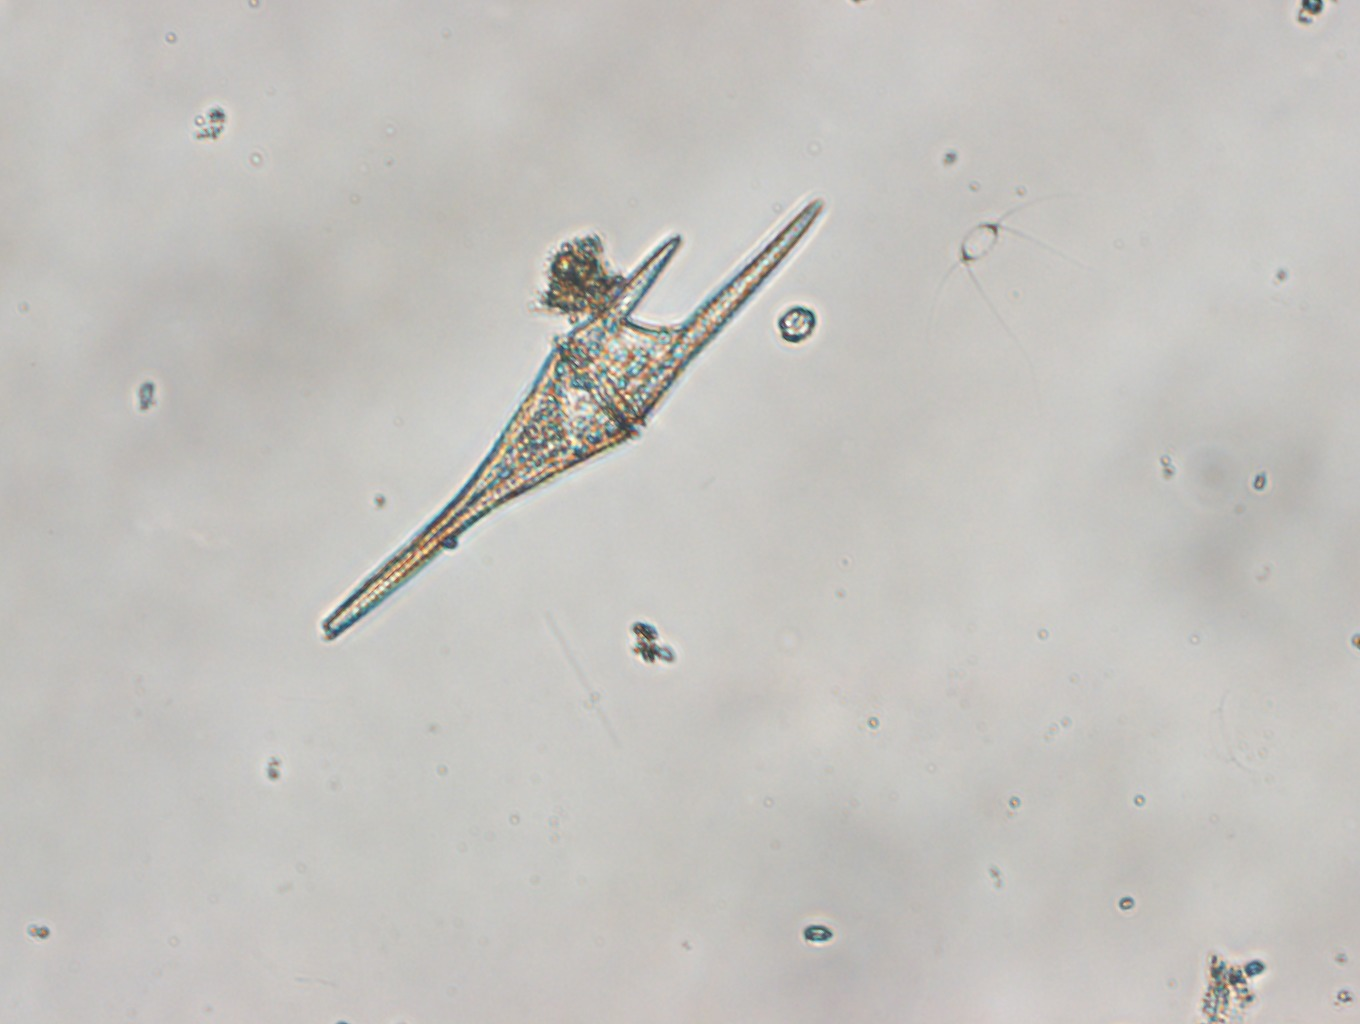ceratium furca: (318, 195, 829, 639)
